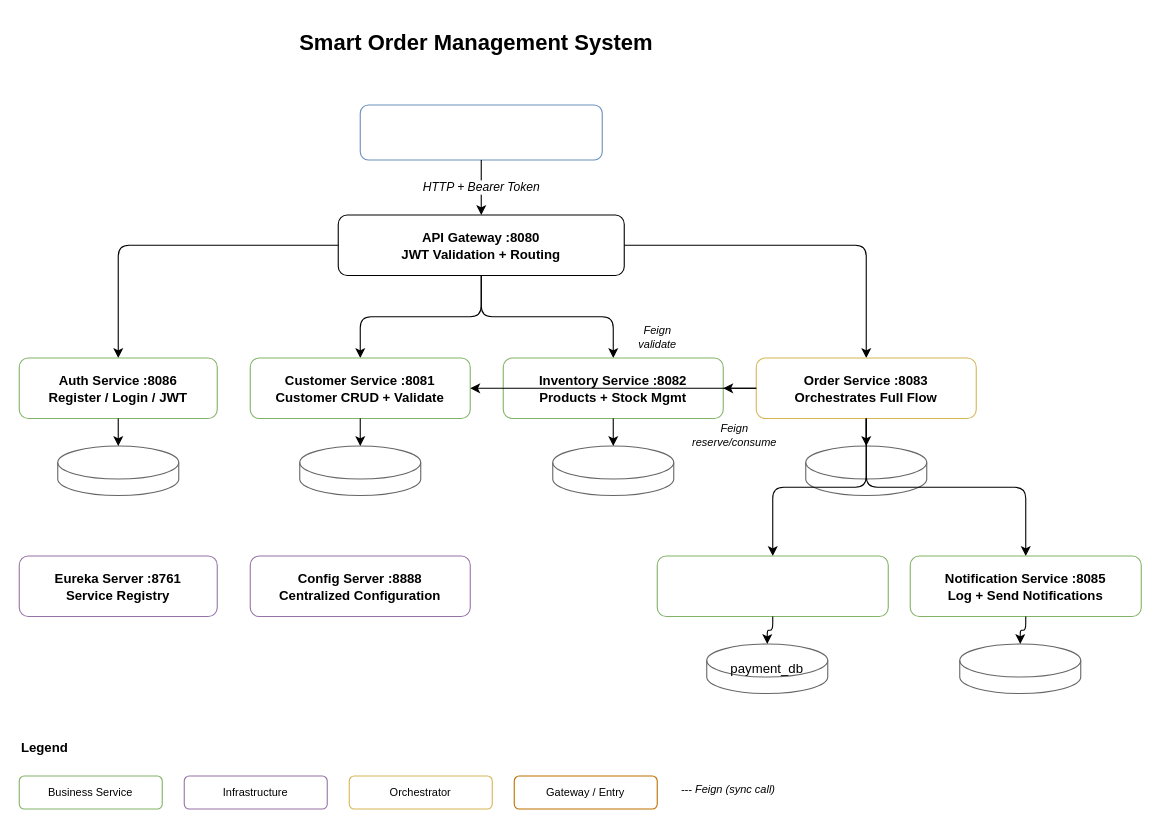
Some shapes in this 1161 by 828 pixel diagram are drawn without their labels. Here are the shapes that lost their labels. From the top down, the centre of each, then its label:
At pixel 480 132: "Client (Browser / Mobile / Postman)".
At pixel 118 470: "auth_db".
At pixel 360 470: "customer_db".
At pixel 613 470: "inventory_db".
At pixel 866 470: "order_db".
At pixel 772 586: "Payment Service :8084 Process + Prevent Duplicates".
At pixel 1020 668: "notification_db".
